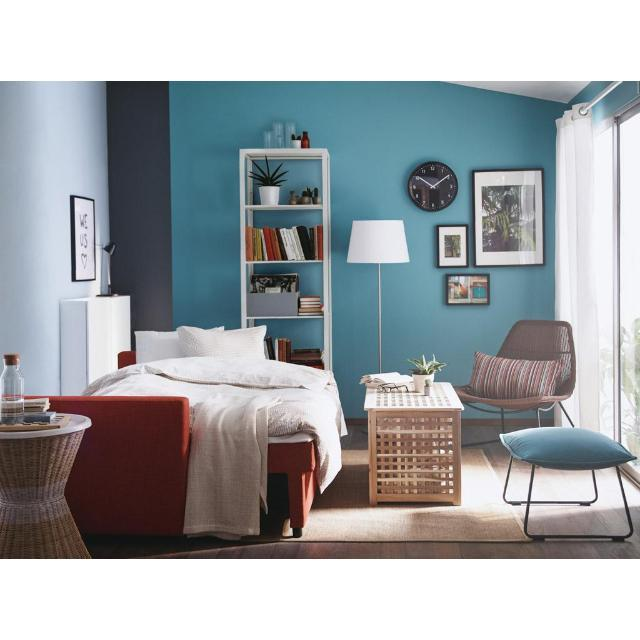armchair: (455, 320, 576, 433)
bed: (50, 326, 346, 540)
clock: (408, 162, 458, 211)
curtain: (555, 104, 599, 430)
dresser: (60, 296, 130, 394)
lamp: (348, 220, 409, 372), (100, 242, 118, 295)
plant: (249, 156, 288, 205), (408, 354, 446, 392)
rug: (300, 448, 528, 542)
shelf: (239, 148, 332, 369)
stool: (500, 427, 635, 541)
table: (0, 415, 91, 558), (365, 382, 464, 506)
wall-art: (473, 168, 545, 265), (70, 195, 96, 281), (446, 274, 490, 305), (436, 225, 468, 267)
